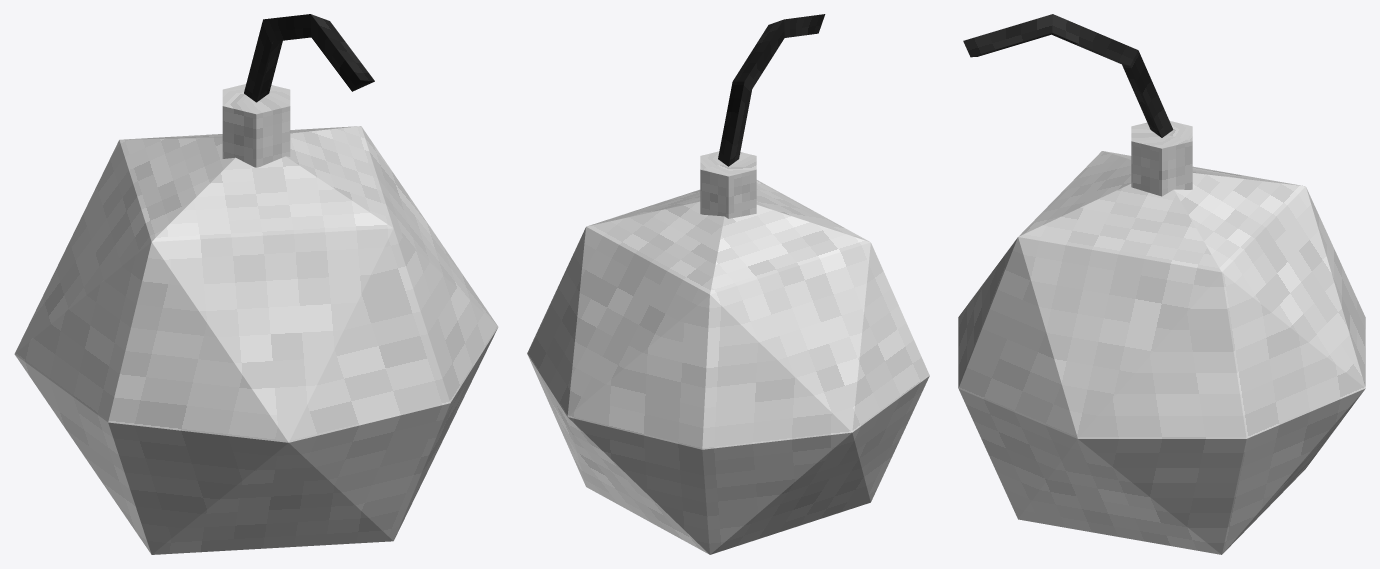
The model's file is Bomb.glb.
3 renders of one model, left to right at view 1: azimuth 30°, elevation 25°; view 2: azimuth 150°, elevation 25°; view 3: azimuth 270°, elevation 25°, orthographic. The views are drawn at different scales.
Visible parts, largest first — view 1: Bomb; view 2: Bomb; view 3: Bomb.
Part boxes in pixels (left/top/right/bottom): Bomb: left=14, top=14, right=498, bottom=554; Bomb: left=527, top=14, right=929, bottom=554; Bomb: left=958, top=14, right=1365, bottom=554.
Bounding box in the file's own units: 0.4623 × 0.6506 × 0.4623.
1 material, 1 textured.
